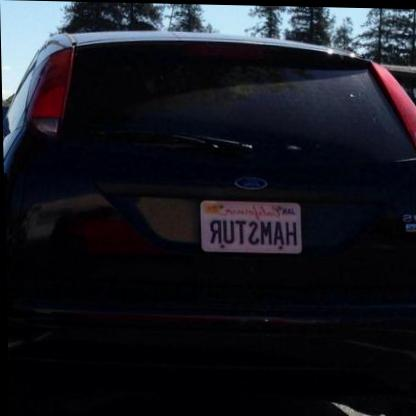License_Plate: (199, 201, 302, 255)
